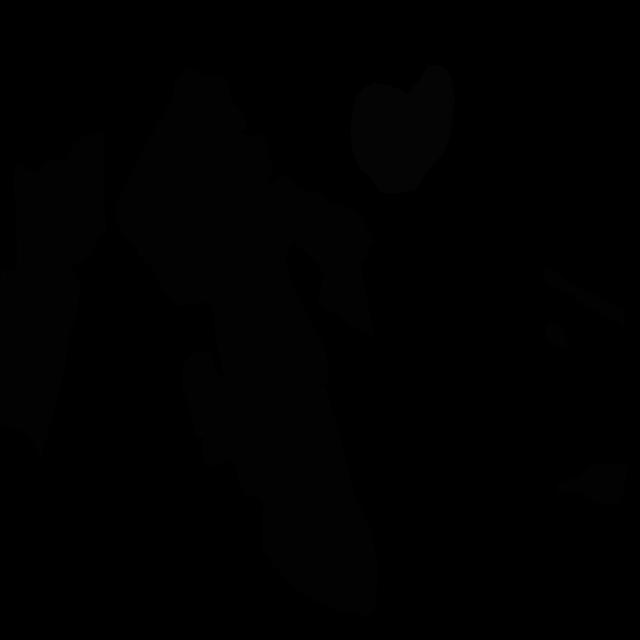cardboard: (116, 67, 328, 439), (260, 385, 378, 616), (267, 173, 375, 336), (0, 247, 81, 458), (182, 351, 286, 515), (12, 128, 108, 279), (544, 268, 625, 329), (556, 464, 629, 505), (545, 321, 568, 351)
soft_plastic: (350, 65, 455, 194)
